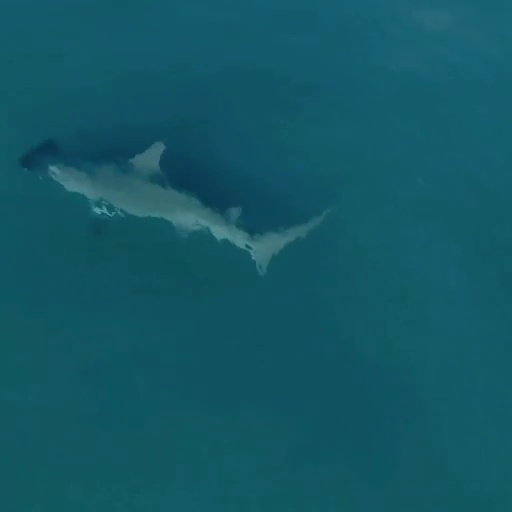shark: (17, 124, 336, 277)
